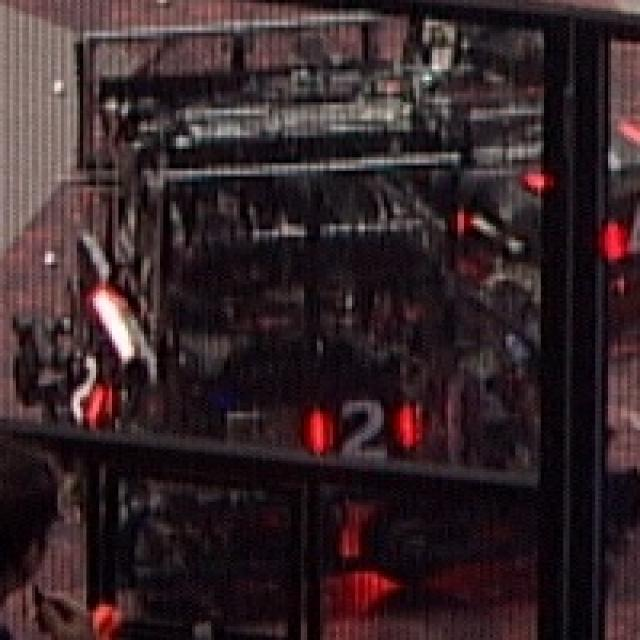R2: (299, 399, 418, 462), (53, 346, 114, 421)
